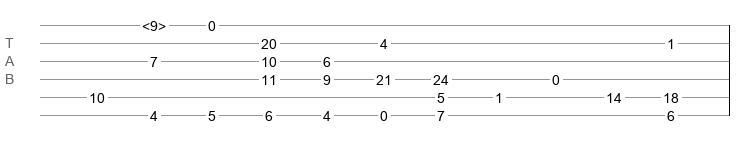0: (208, 18, 216, 28), (380, 108, 388, 118), (552, 72, 560, 82)
1: (495, 90, 503, 100), (667, 36, 675, 46)
10: (89, 90, 105, 100), (261, 54, 277, 64)
11: (261, 72, 277, 82)
14: (606, 90, 622, 100)
18: (663, 90, 679, 100)
20: (261, 36, 277, 46)
21: (376, 72, 392, 82)
24: (433, 72, 449, 82)
4: (150, 108, 158, 118), (323, 108, 331, 118), (380, 36, 388, 46)
5: (208, 108, 216, 118), (437, 90, 445, 100)
6: (265, 108, 273, 118), (323, 54, 331, 64), (667, 108, 675, 118)
7: (150, 54, 158, 64), (437, 108, 445, 118)
9: (323, 72, 331, 82)
harmonic: (142, 18, 166, 28)
